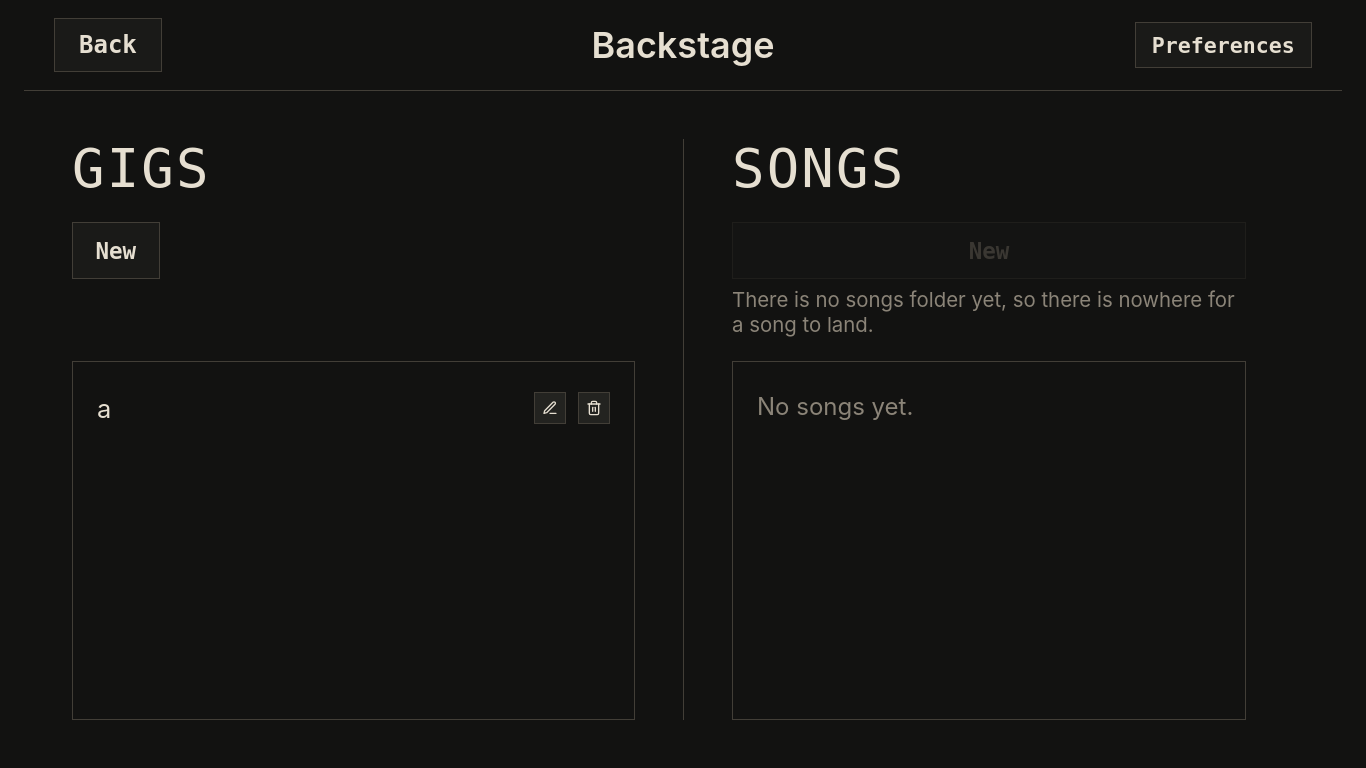
Setup home › names the folder that goes, and what the delete cannot reach
Step 1. Click the button with test id "setup-gig-delete-a" → (594, 408), box left=578, top=392, right=610, bottom=424
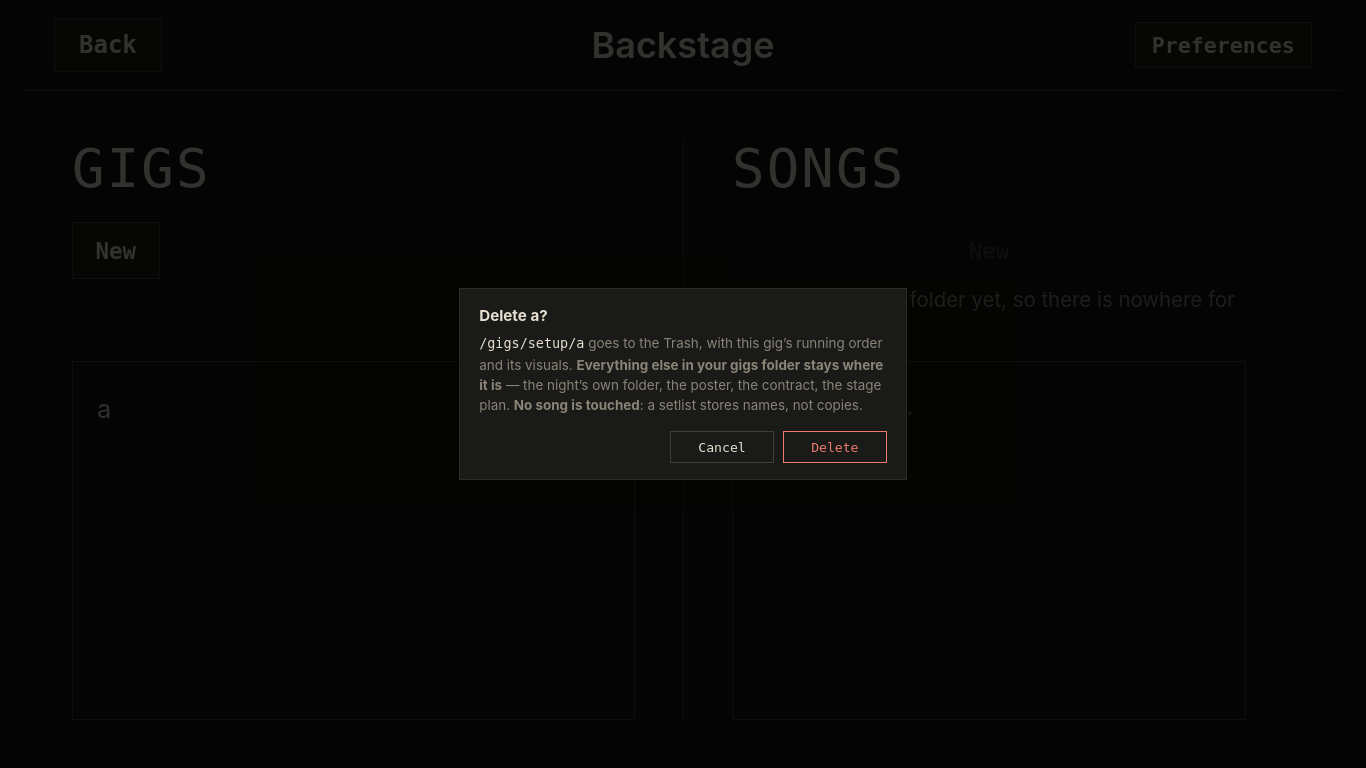
Check: the element with test id "setup-gig-delete-what" shows "/gigs/setup/a", box left=479, top=336, right=584, bottom=352
Check: the element with test id "setup-gig-delete-what" shows "Trash", box left=479, top=336, right=882, bottom=373
Check: the element with test id "setup-gig-delete-what" shows "running order", box left=479, top=336, right=882, bottom=373
